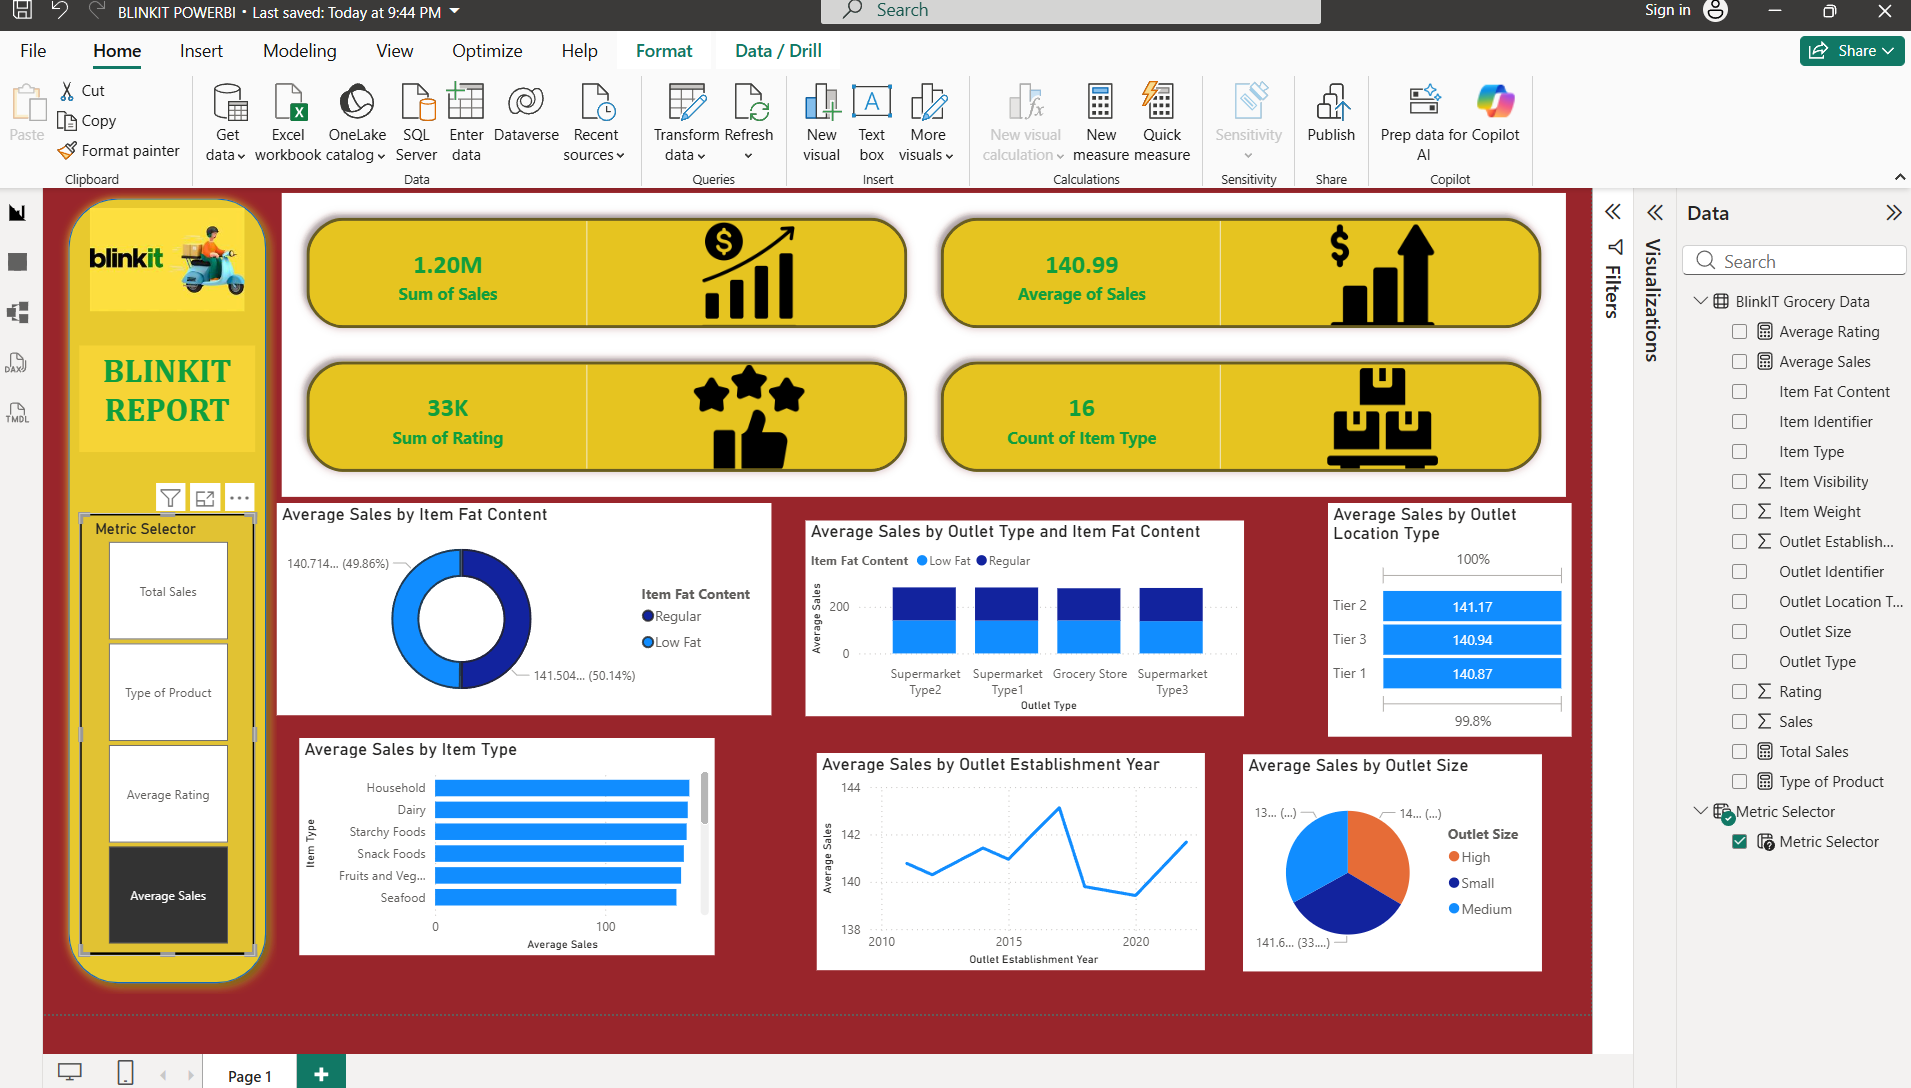

The dashboard page shown, as its layout file describes it:
{"tool":"powerbi","page":{"name":"Page 1","canvas":[1500,800],"ordinal":0},"visuals":[{"type":"shape","box":[14.3,0,211.8,780.4],"z":0},{"type":"cardVisual","fields":{"Data":["Sum(BlinkIT Grocery Data.Sales)","Avg(BlinkIT Grocery Data.Sales)","Sum(BlinkIT Grocery Data.Rating)","Count(BlinkIT Grocery Data.Item Type)"]},"box":[226.7,0,1254.3,305.5],"z":1000},{"type":"image","box":[35.4,19.3,170.5,99.7],"z":2000},{"type":"textbox","box":[35.4,152.8,170.5,102.9],"z":3000},{"type":"donutChart","fields":{"Category":["BlinkIT Grocery Data.Item Fat Content"],"Y":["BlinkIT Grocery Data.Average Sales"]},"box":[226.7,305.5,479.2,205.8],"z":4000},{"type":"barChart","fields":{"Category":["BlinkIT Grocery Data.Item Type"],"Y":["BlinkIT Grocery Data.Average Sales"]},"box":[247.6,532.3,402,210.7],"z":5000},{"type":"columnChart","fields":{"Category":["BlinkIT Grocery Data.Outlet Type"],"Series":["BlinkIT Grocery Data.Item Fat Content"],"Y":["BlinkIT Grocery Data.Average Sales"]},"box":[738.1,321.6,424.5,189.8],"z":6000},{"type":"lineChart","fields":{"Category":["BlinkIT Grocery Data.Outlet Establishment Year"],"Y":["BlinkIT Grocery Data.Average Sales"]},"box":[749.4,546.7,376.3,210.7],"z":6001},{"type":"pieChart","fields":{"Category":["BlinkIT Grocery Data.Outlet Size"],"Y":["BlinkIT Grocery Data.Average Sales"]},"box":[1162.6,548.4,289.5,210.7],"z":6002},{"type":"funnel","fields":{"Category":["BlinkIT Grocery Data.Outlet Location Type"],"Y":["BlinkIT Grocery Data.Average Sales"]},"box":[1244.6,305.5,236.4,226.7],"z":6003},{"type":"slicer","fields":{"Values":["Metric Selector.Metric Selector"]},"box":[35.4,315.2,170.5,427.7],"z":6004}]}

Visuals, with their boxes on the page's 1500x800 design canvas (x1, y1, x2, y2). These are canvas units, not pixel positions in the 1911x1088 screenshot, which may show the page scaled, cropped or inside an application window:
shape: pyautogui.locateOnScreen(14, 0, 226, 780)
cardVisual - Sum(BlinkIT Grocery Data.Sales) x Avg(BlinkIT Grocery Data.Sales): pyautogui.locateOnScreen(227, 0, 1481, 306)
image: pyautogui.locateOnScreen(35, 19, 206, 119)
textbox: pyautogui.locateOnScreen(35, 153, 206, 256)
donutChart - BlinkIT Grocery Data.Item Fat Content x BlinkIT Grocery Data.Average Sales: pyautogui.locateOnScreen(227, 306, 706, 511)
barChart - BlinkIT Grocery Data.Item Type x BlinkIT Grocery Data.Average Sales: pyautogui.locateOnScreen(248, 532, 650, 743)
columnChart - BlinkIT Grocery Data.Outlet Type x BlinkIT Grocery Data.Item Fat Content: pyautogui.locateOnScreen(738, 322, 1163, 511)
lineChart - BlinkIT Grocery Data.Outlet Establishment Year x BlinkIT Grocery Data.Average Sales: pyautogui.locateOnScreen(749, 547, 1126, 757)
pieChart - BlinkIT Grocery Data.Outlet Size x BlinkIT Grocery Data.Average Sales: pyautogui.locateOnScreen(1163, 548, 1452, 759)
funnel - BlinkIT Grocery Data.Outlet Location Type x BlinkIT Grocery Data.Average Sales: pyautogui.locateOnScreen(1245, 306, 1481, 532)
slicer - Metric Selector.Metric Selector: pyautogui.locateOnScreen(35, 315, 206, 743)
